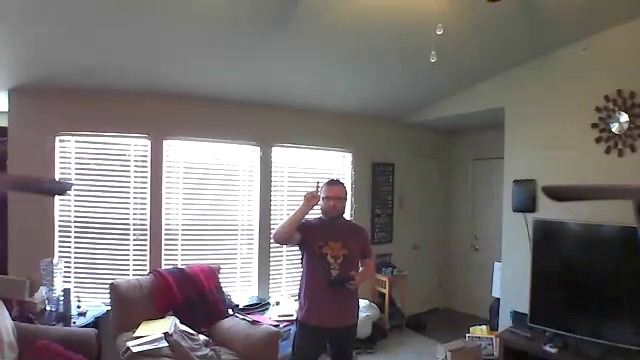up: (300, 177, 324, 207)
